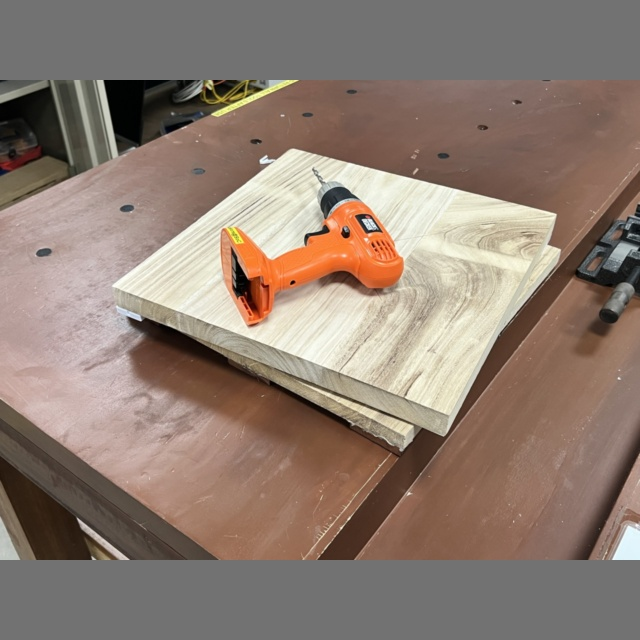drill: (220, 168, 404, 326)
